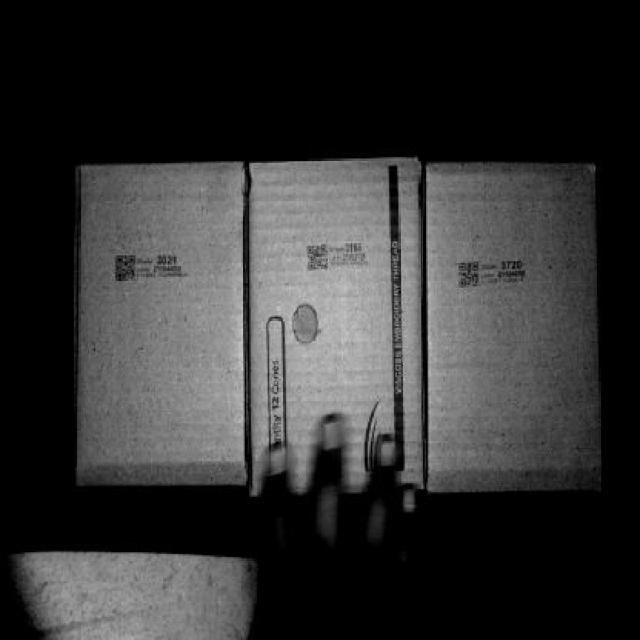cardboxes: (253, 162, 422, 496), (434, 165, 600, 489), (81, 166, 250, 479)
